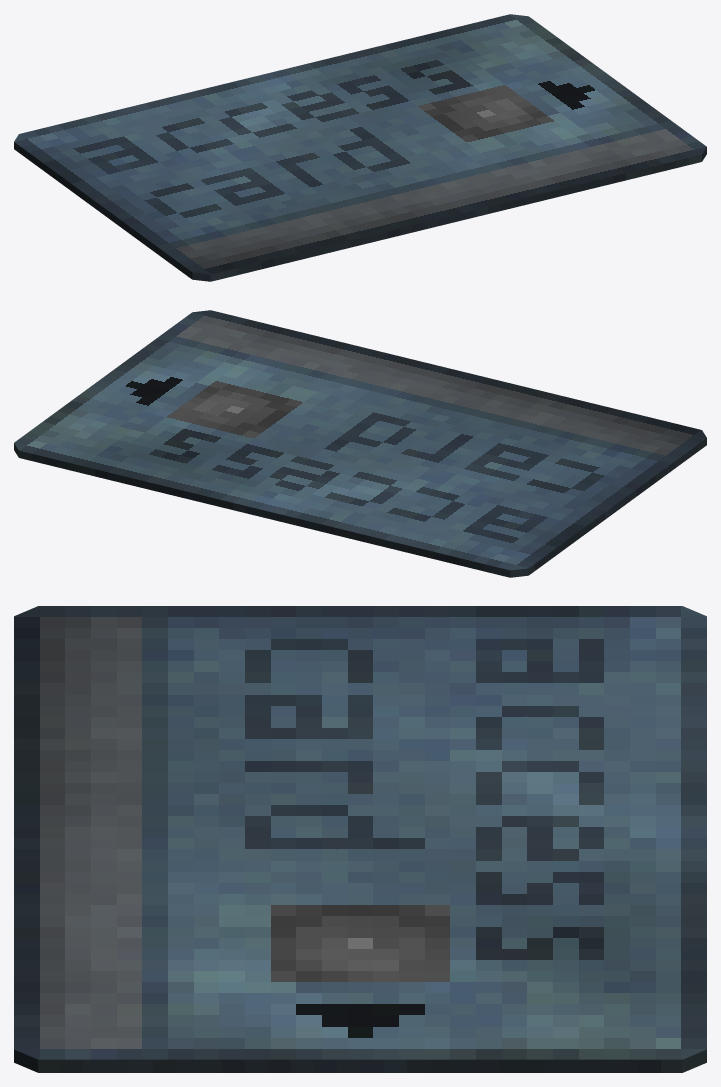
Rendered from keycard_1_2.glb.
The picture shows the model from 3 angles, top to bottom: view 1: azimuth 30°, elevation 25°; view 2: azimuth 150°, elevation 25°; view 3: azimuth 270°, elevation 25°; orthographic projection. The views are drawn at different scales.
Parts seen in each view (by area): view 1: keycard_1_2; view 2: keycard_1_2; view 3: keycard_1_2.
Boxes of the visible parts, box(x1,y1,x2,y2) form: keycard_1_2: box(14, 14, 706, 281); keycard_1_2: box(14, 310, 706, 577); keycard_1_2: box(14, 606, 706, 1072).
Bounding box in the file's own units: 0.132 × 0.0018 × 0.0852.
Materials: 1 (1 with a texture image).
